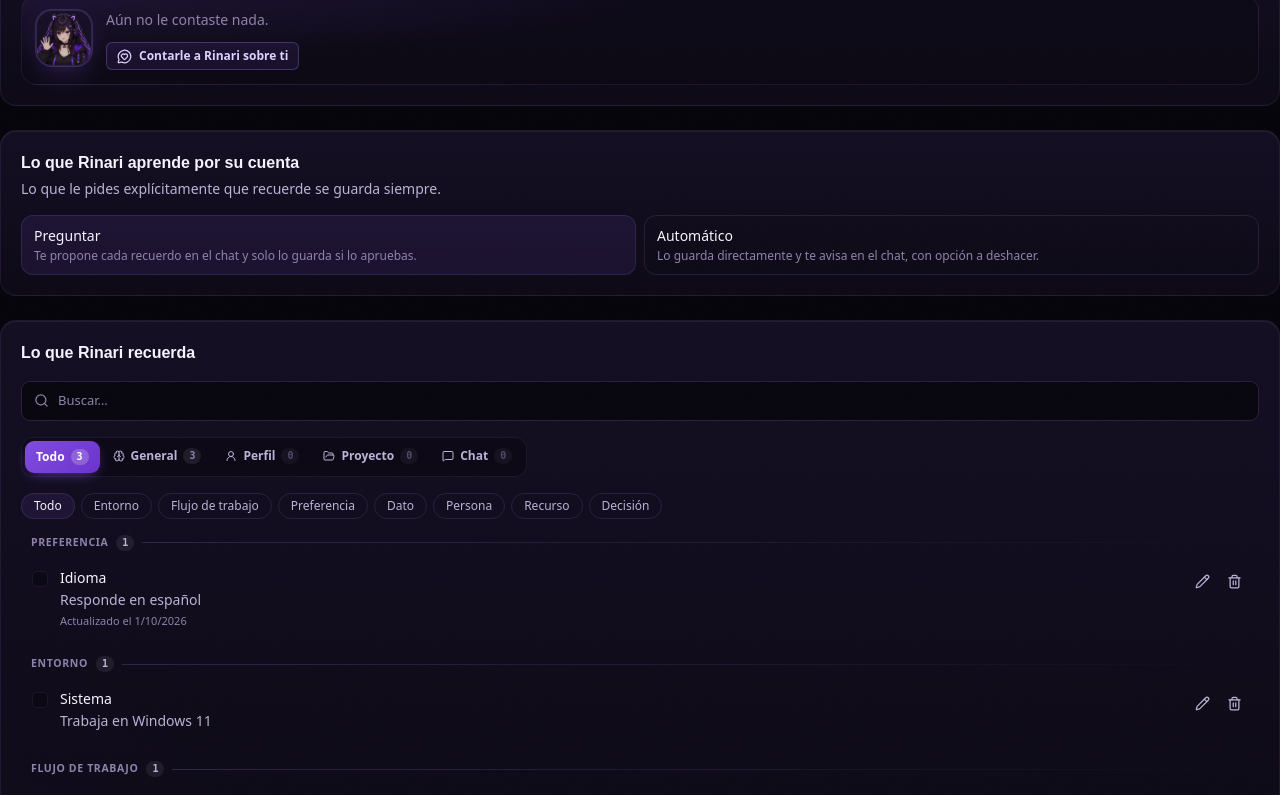
Test: busca en el Engine y explica una búsqueda sin resultados
The width and height of the screenshot is (1280, 795).
(page scrolled)
Check: the text "Responde en español" is shown, box [60,590,201,608]
Step 1. Type "gatos" into the search field named "Buscar en la memoria" → (652, 401), box [58,382,1246,420]
(page scrolled)
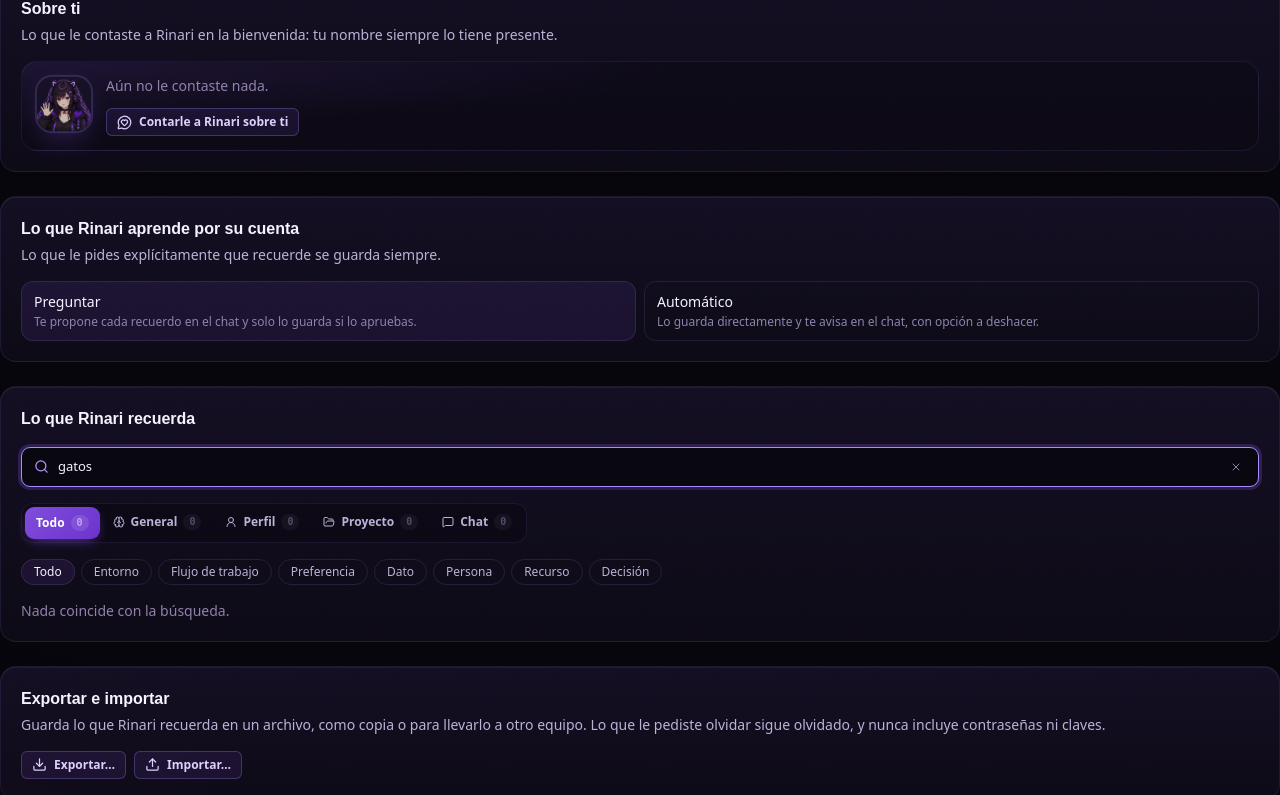
Check: the text "Nada coincide con la búsqueda." is shown, box [21,600,230,620]
